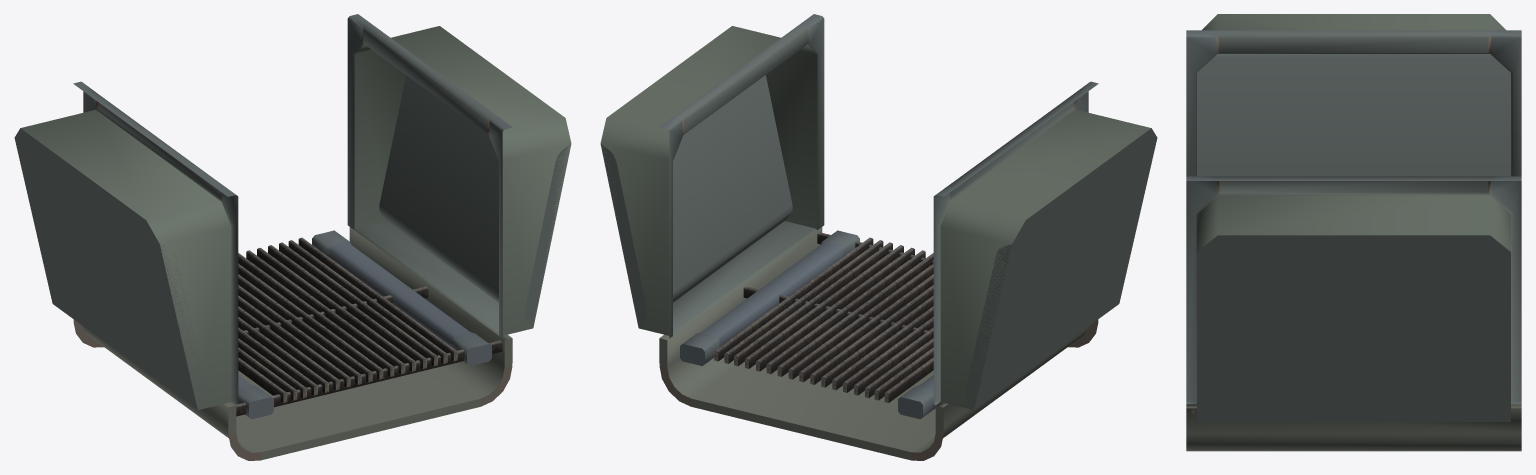
Rendered from maintenance_tunnel_open_top.dae.
The picture shows the model from 3 angles, left to right: view 1: azimuth 30°, elevation 25°; view 2: azimuth 150°, elevation 25°; view 3: azimuth 270°, elevation 25°; orthographic projection. The views are drawn at different scales.
Parts seen in each view (by area): view 1: tunnel_open_top, grate__5_; view 2: tunnel_open_top, grate__5_; view 3: tunnel_open_top.
Part boxes in pixels (box(x1,y1,x2,y2)): tunnel_open_top: box(14, 14, 571, 460); grate__5_: box(236, 237, 502, 416); tunnel_open_top: box(600, 14, 1157, 460); grate__5_: box(714, 232, 933, 402); tunnel_open_top: box(1186, 14, 1521, 451).
Size of what is drawn, in the model's own units: 3.12 by 1.93 by 2.
